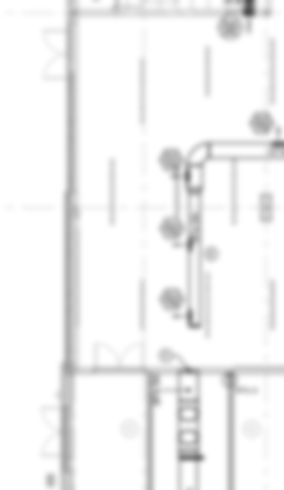double door: (41, 26, 73, 81), (39, 404, 69, 459), (91, 341, 147, 369)
